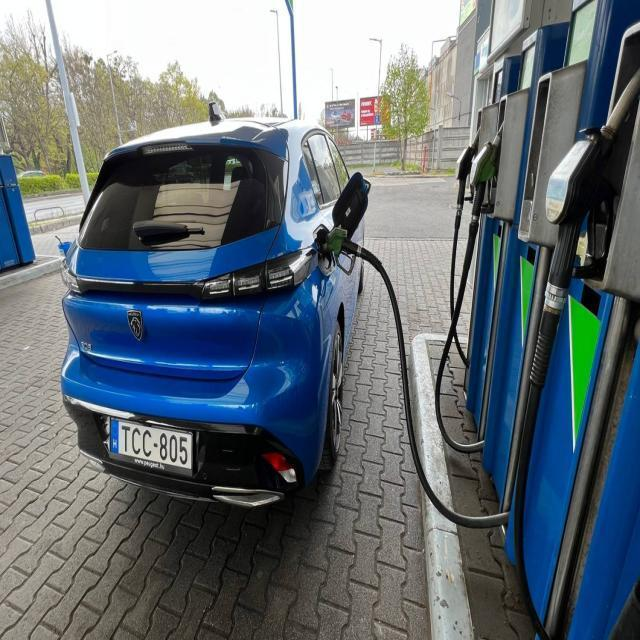licence: (107, 413, 194, 475)
